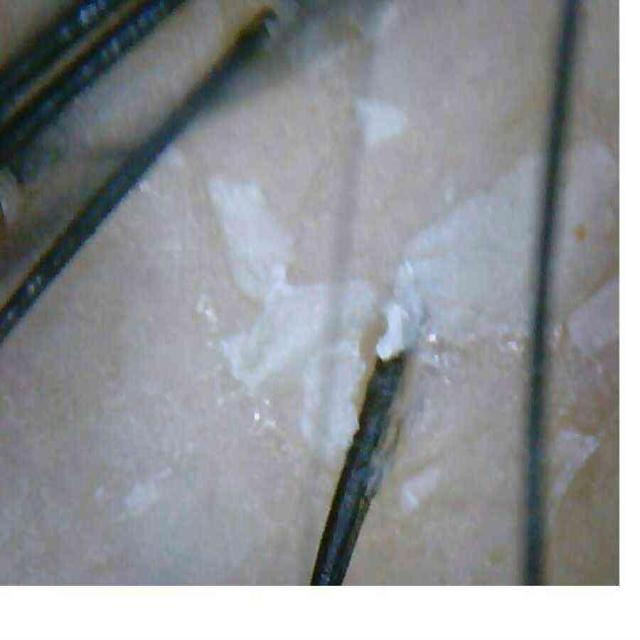d: (222, 280, 374, 392), (208, 178, 291, 298), (300, 339, 366, 460), (376, 301, 410, 361)
